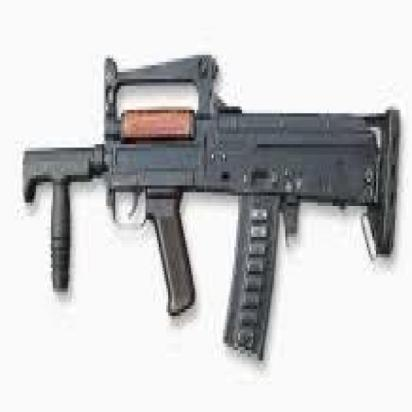Gun: (17, 44, 404, 374)
